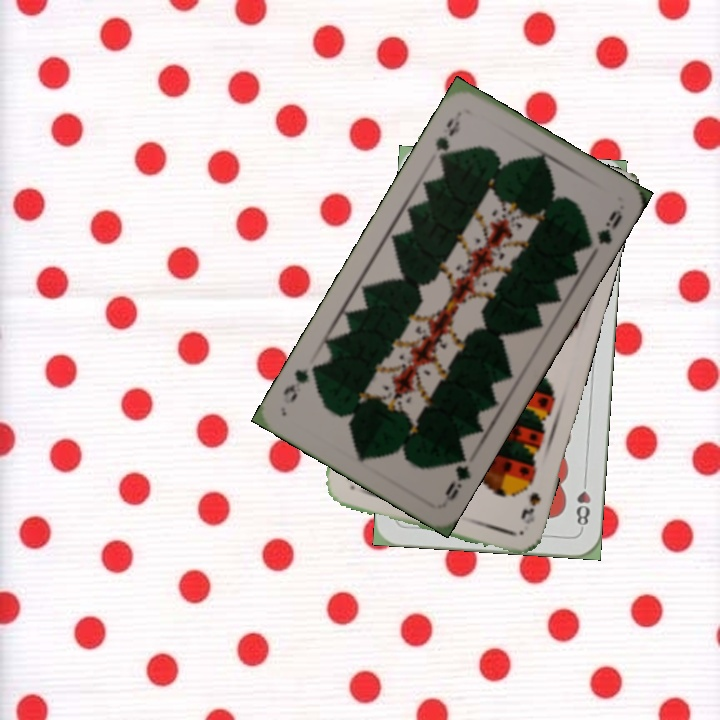G9: (440, 447, 474, 505), (431, 107, 464, 165)
H8: (572, 473, 593, 533)
S9: (516, 471, 543, 527)
